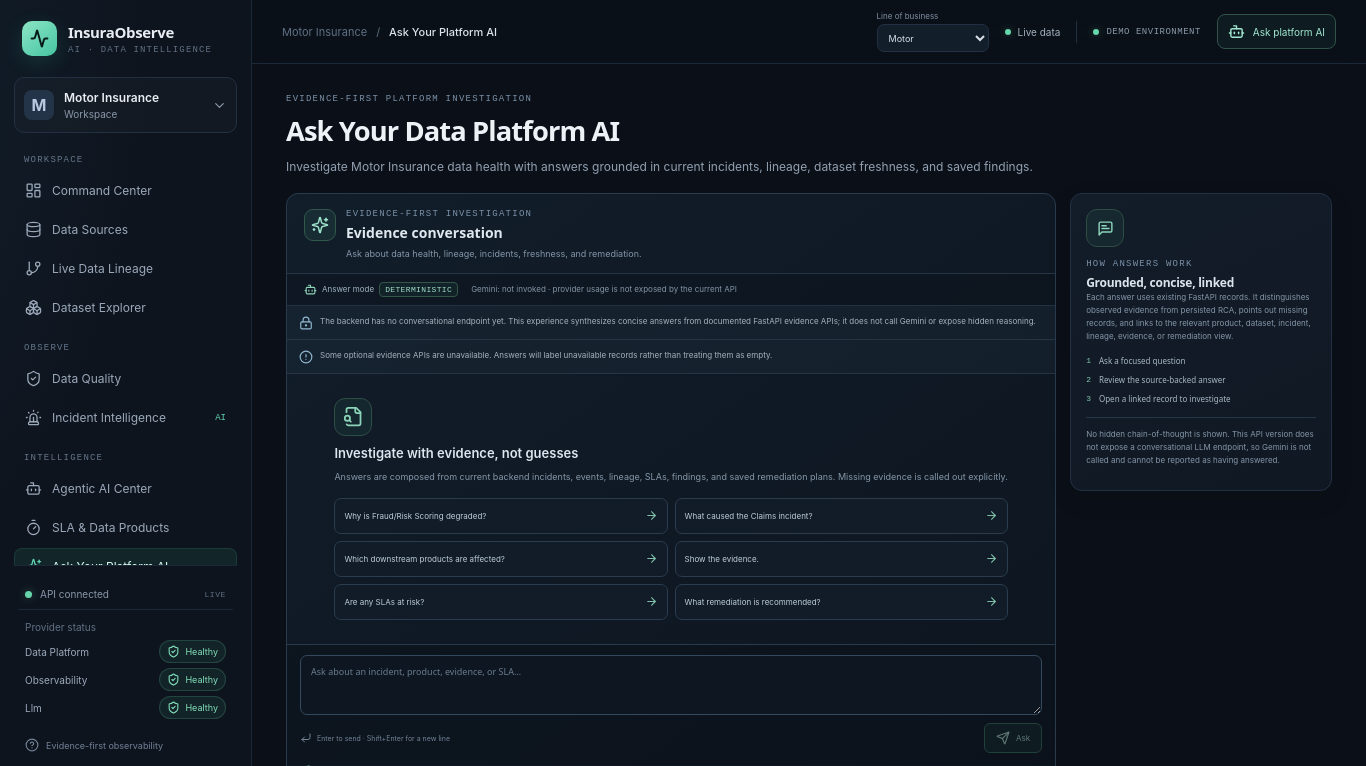
frontend route shell › does not treat unavailable SLA records as an empty or healthy result in Ask AI
Click the button "Are any SLAs at risk?". click: [384, 602]
box: [334,584,668,620]
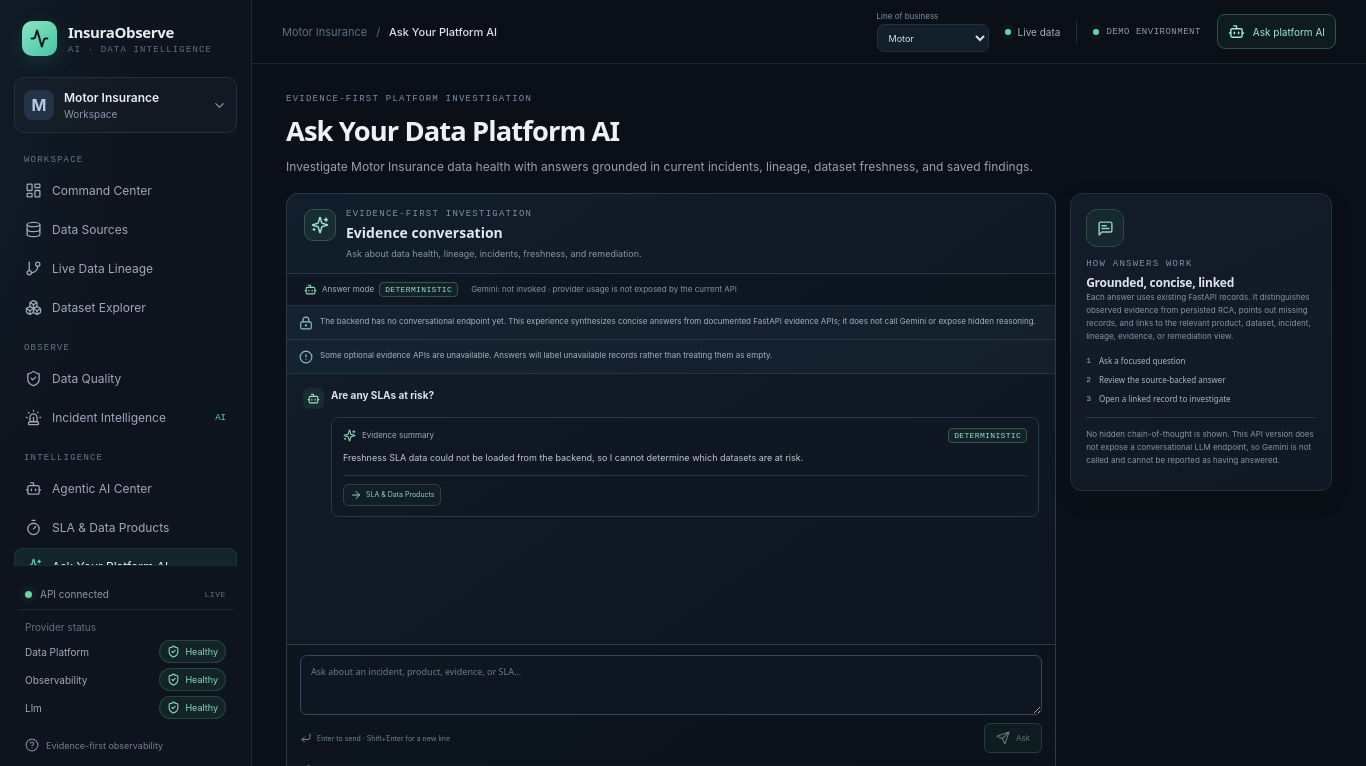
Now the text "Freshness SLA data could not be loaded" is shown, box [343,452,803,463]
